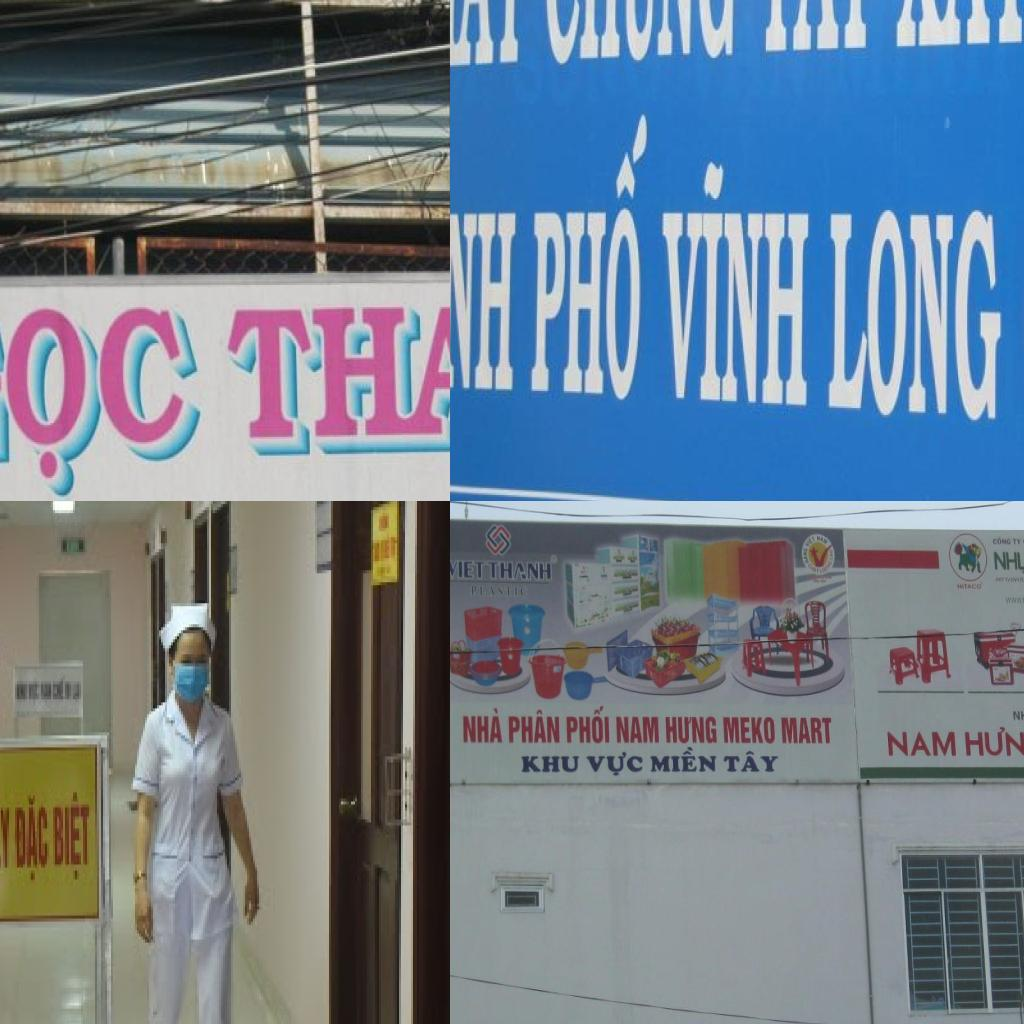text: (657, 162, 812, 408), (0, 305, 204, 491), (530, 113, 660, 403), (827, 212, 1003, 422), (226, 296, 450, 457), (450, 153, 521, 394), (544, 0, 741, 68), (757, 0, 882, 54), (450, 0, 542, 70), (51, 792, 93, 886), (13, 792, 51, 886), (964, 726, 1024, 757), (886, 731, 956, 757), (509, 710, 561, 744), (650, 747, 717, 773), (566, 706, 610, 743), (586, 751, 644, 778), (722, 716, 776, 745), (664, 716, 718, 744), (780, 717, 833, 745), (463, 707, 504, 743), (724, 750, 780, 774), (487, 562, 552, 581), (616, 716, 660, 744), (0, 804, 15, 876), (520, 756, 580, 774), (993, 550, 1024, 574), (450, 559, 486, 579), (472, 586, 526, 598), (957, 583, 982, 591), (804, 533, 816, 548), (992, 537, 1012, 545), (1004, 596, 1024, 604), (816, 534, 829, 546), (1012, 708, 1024, 721), (828, 548, 834, 563), (1012, 537, 1022, 545)
